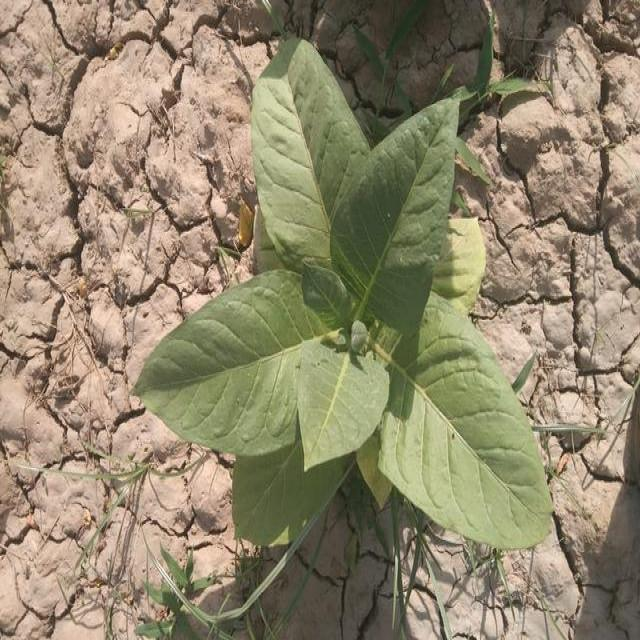crop: (136, 28, 551, 546)
